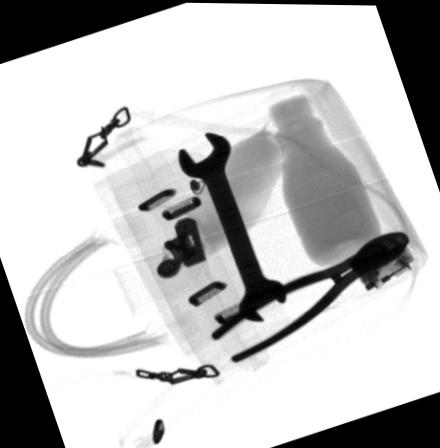Pliers: (209, 230, 409, 364)
Wrench: (175, 133, 285, 320)
